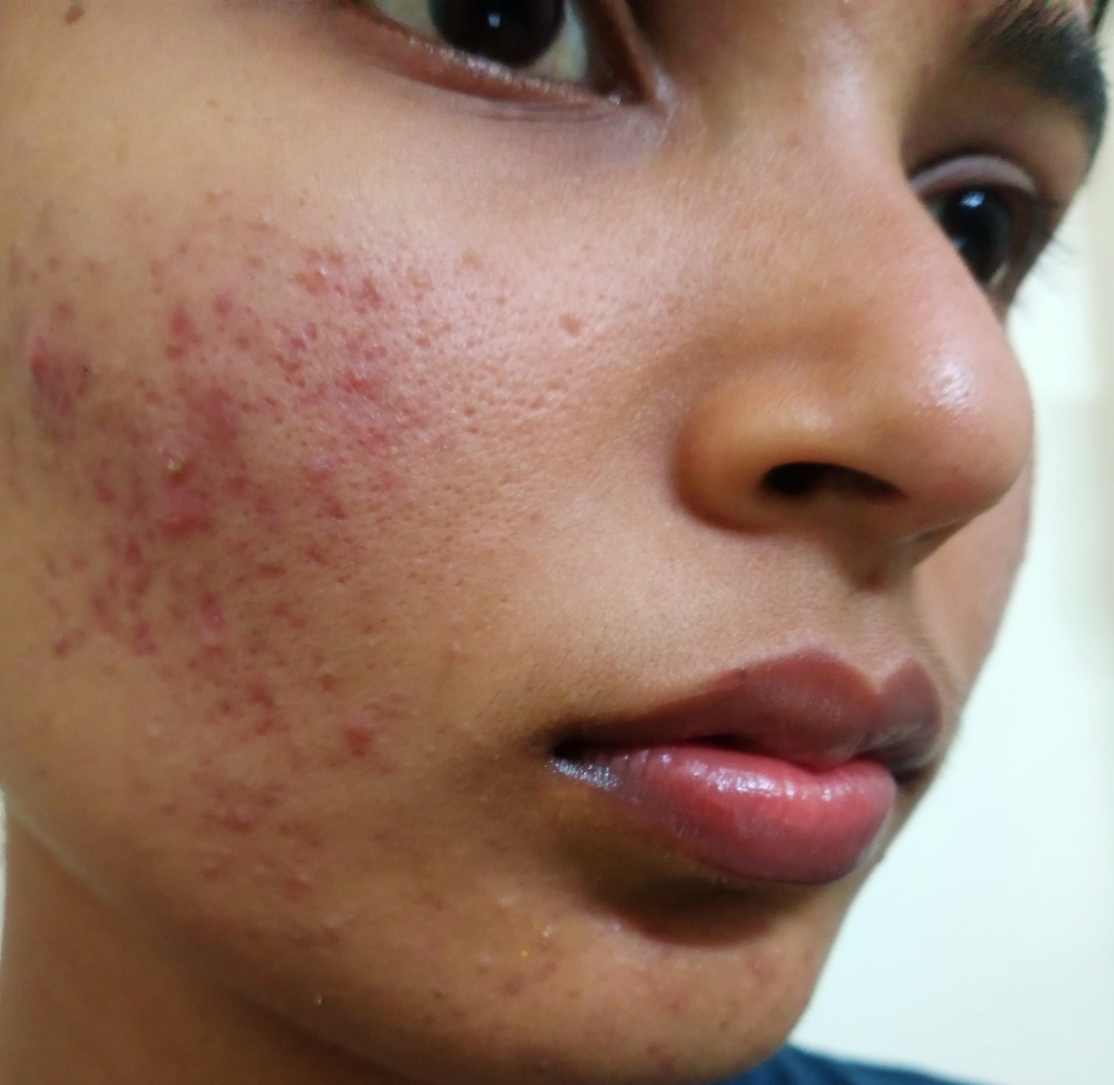closed_comedone: (308, 902, 378, 947), (231, 199, 288, 252), (283, 854, 315, 893)
papule: (22, 340, 90, 421), (194, 603, 260, 684), (303, 243, 360, 322), (292, 444, 364, 505), (222, 789, 280, 852), (331, 702, 376, 763), (186, 558, 238, 609)
pustule: (151, 433, 195, 492)
